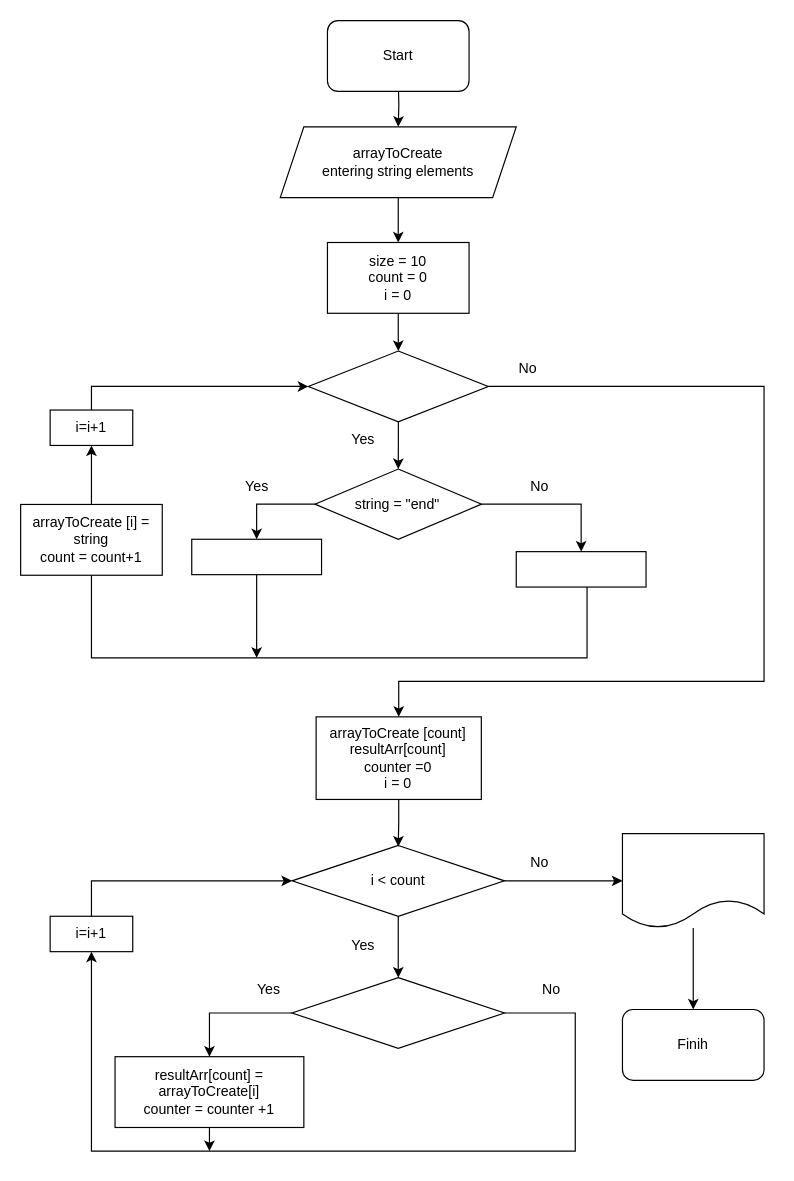
Image size: 794x1181. Some labels were removed from this diagram. Each missing label, with the centre of its shape:
arrayToCreate[i] <= 3: point (397, 1012)
continue entering: point (580, 568)
i < size: point (397, 386)
resultArr: point (692, 880)
stop enetering: point (256, 556)
